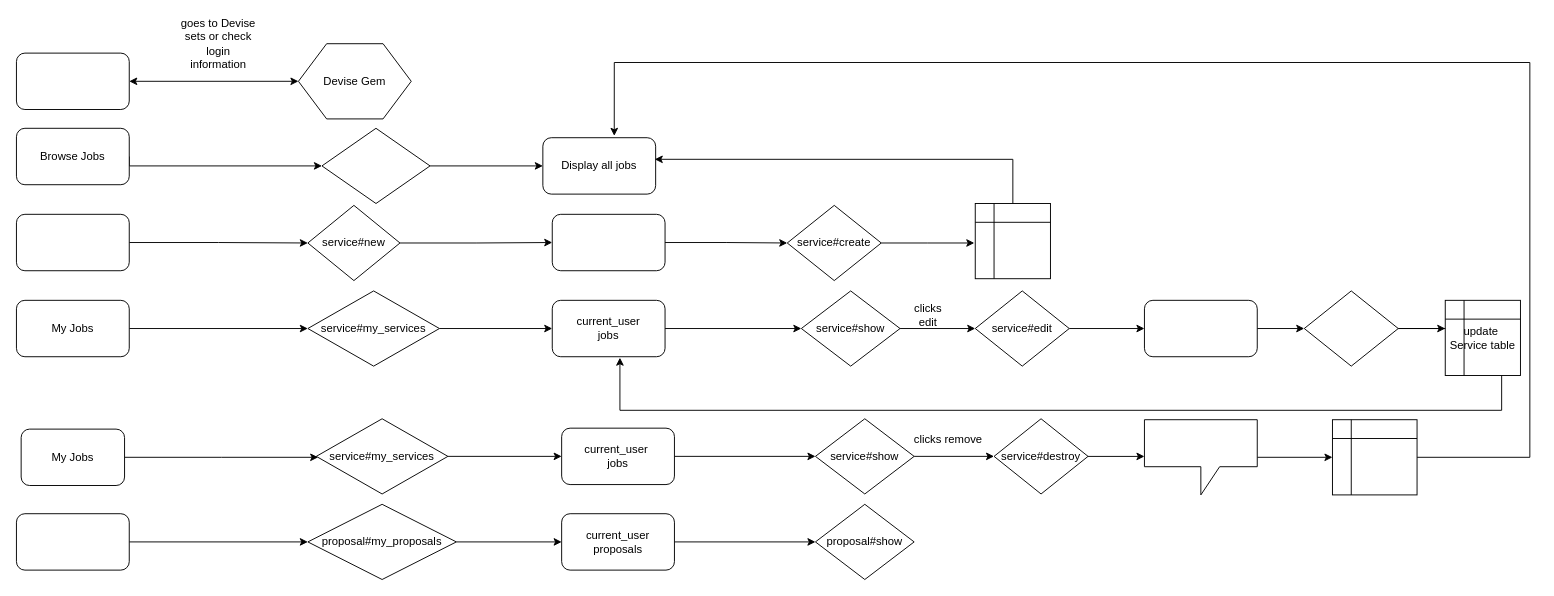
Some shapes in this 1554 by 596 pixel diagram are drawn without their labels. The shapes that lost their labels are listed below. From the top down, each one's box as (x1, y1, x2, y2) in pixels, then its label:
(16, 52, 129, 110): Home User sign in/ login
(321, 127, 430, 204): service#index
(16, 213, 129, 271): Create Job
(551, 213, 665, 271): new job form with submit button
(974, 203, 1050, 279): Service table
(1144, 299, 1257, 357): Edit form with a submit
(1303, 290, 1398, 366): service#update
(1144, 419, 1257, 495): are you sure? user click ok
(1332, 419, 1417, 495): removes it from Service table
(16, 513, 129, 570): My proposals
